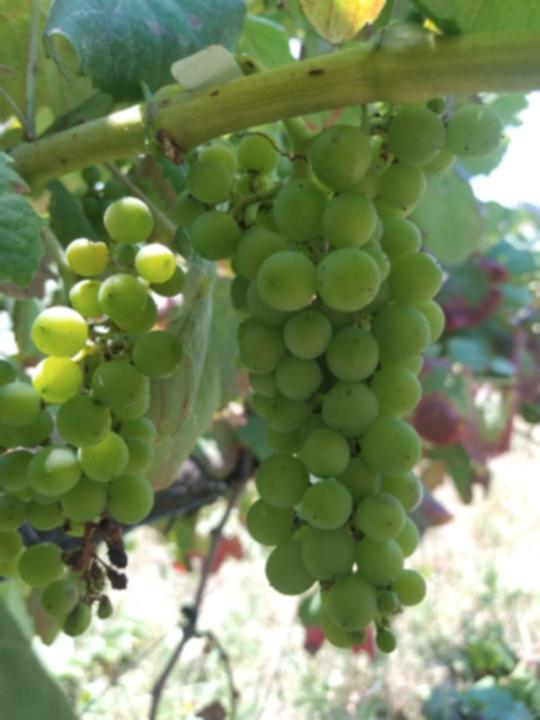grape: (172, 95, 509, 664), (9, 197, 185, 640)
